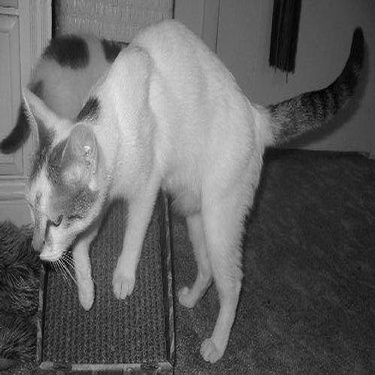cat: (17, 17, 372, 364), (1, 24, 159, 166)
